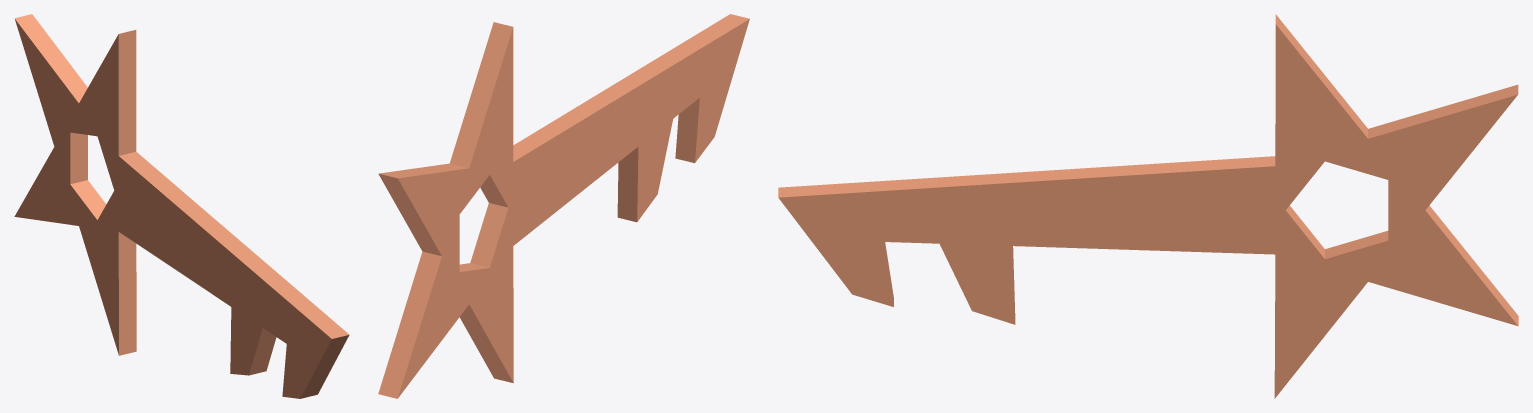
The model's file is Key.fbx.
3 renders of one model, left to right at view 1: azimuth 30°, elevation 25°; view 2: azimuth 150°, elevation 25°; view 3: azimuth 270°, elevation 25°, orthographic. The views are drawn at different scales.
Visible parts, largest first — view 1: Key; view 2: Key; view 3: Key.
Part boxes in pixels (x1,y1,x2,y2): Key: [14, 14, 349, 398]; Key: [378, 14, 749, 398]; Key: [778, 14, 1518, 398].
Size of the model in its own units: 12.66 by 220 by 394.
